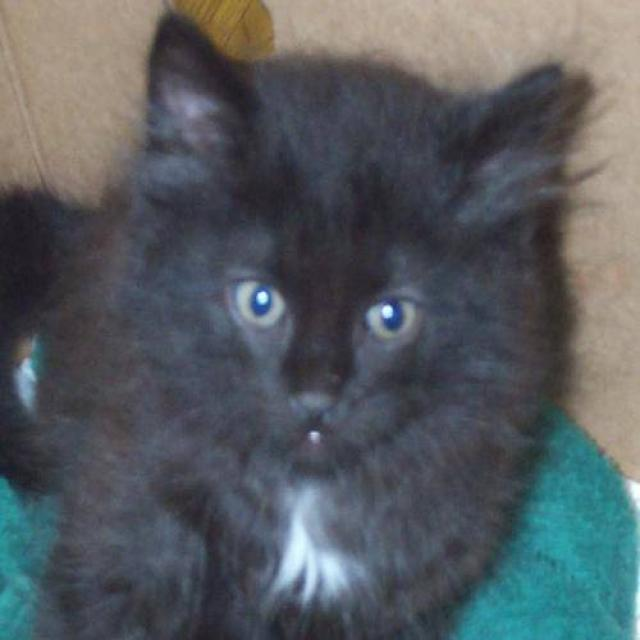cat: (0, 6, 608, 638)
